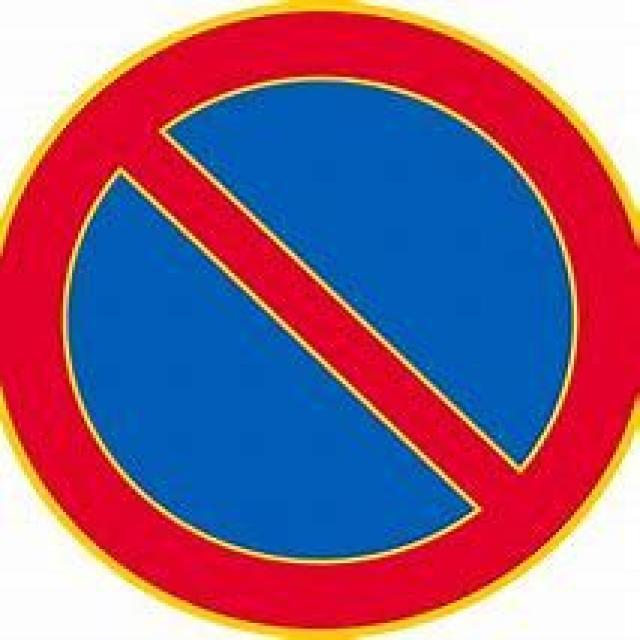do_not_enter: (0, 3, 637, 637)
